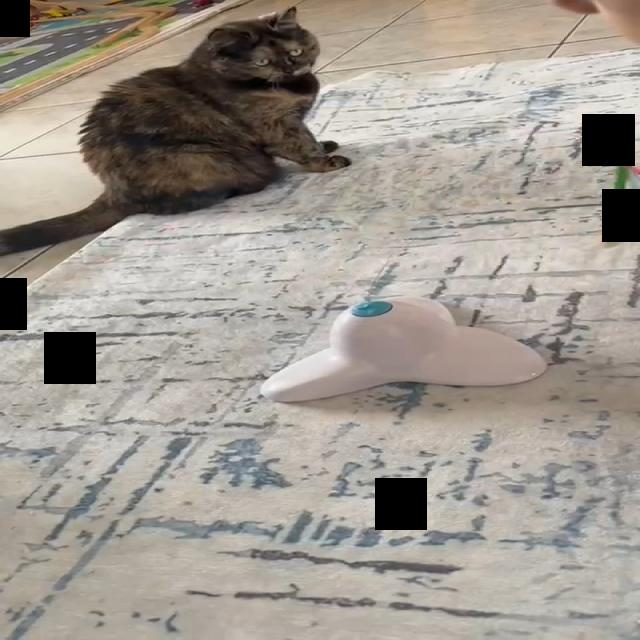authorized: (0, 5, 351, 257)
